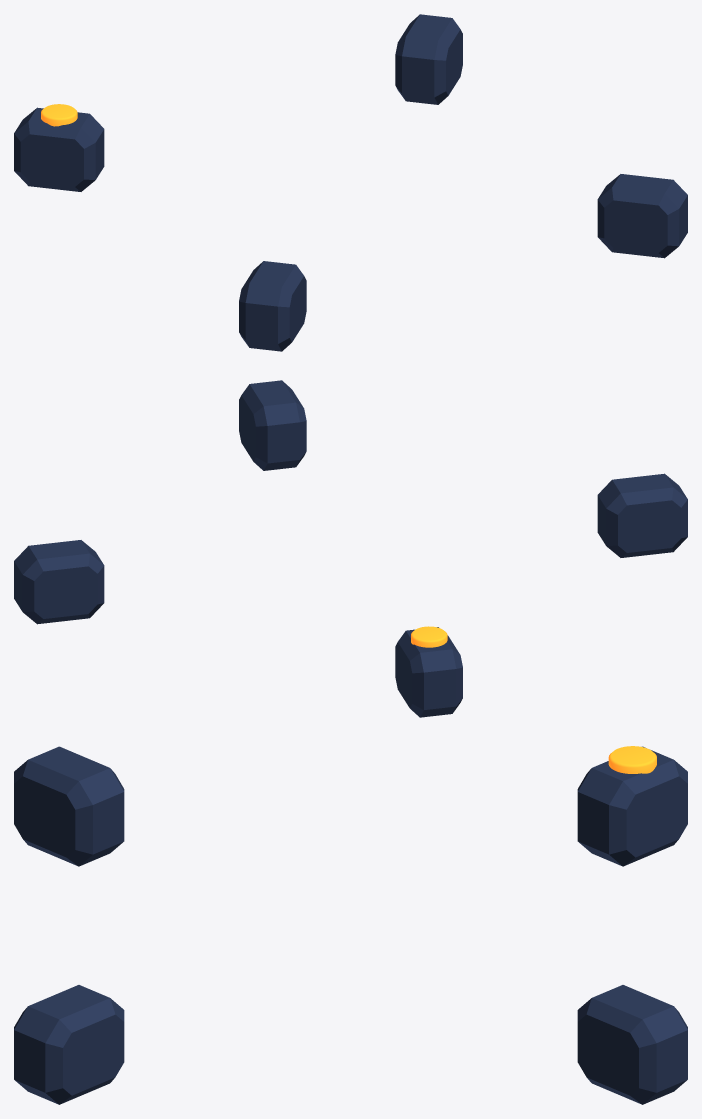
The model's file is tower_overclock_network_s2.glb.
3 renders of one model, top to bottom at view 1: azimuth 30°, elevation 25°; view 2: azimuth 150°, elevation 25°; view 3: azimuth 270°, elevation 25°, orthographic. The views are drawn at different scales.
Visible parts, largest first — view 1: overclock_relay2, overclock_relay0, overclock_relay1, overclock_relay3, overclock_up_network_l2_stud; view 2: overclock_relay1, overclock_relay3, overclock_relay2, overclock_relay0, overclock_up_network_l2_stud; view 3: overclock_relay3, overclock_relay1, overclock_relay2, overclock_relay0, overclock_up_network_l2_stud.
Part boxes in pixels (bbox=[...]): overclock_relay2: bbox=[597, 174, 687, 258]; overclock_relay0: bbox=[14, 107, 104, 191]; overclock_relay1: bbox=[395, 14, 462, 104]; overclock_relay3: bbox=[239, 261, 306, 351]; overclock_up_network_l2_stud: bbox=[41, 104, 77, 126]; overclock_relay1: bbox=[14, 540, 104, 624]; overclock_relay3: bbox=[597, 473, 687, 557]; overclock_relay2: bbox=[239, 380, 306, 470]; overclock_relay0: bbox=[395, 627, 462, 717]; overclock_up_network_l2_stud: bbox=[411, 626, 447, 647]; overclock_relay3: bbox=[14, 746, 124, 866]; overclock_relay1: bbox=[577, 985, 687, 1104]; overclock_relay2: bbox=[14, 985, 124, 1104]; overclock_relay0: bbox=[577, 746, 687, 866]; overclock_up_network_l2_stud: bbox=[608, 746, 656, 773].
Bounding box in the file's own units: 0.7778 × 0.1198 × 0.7778.
